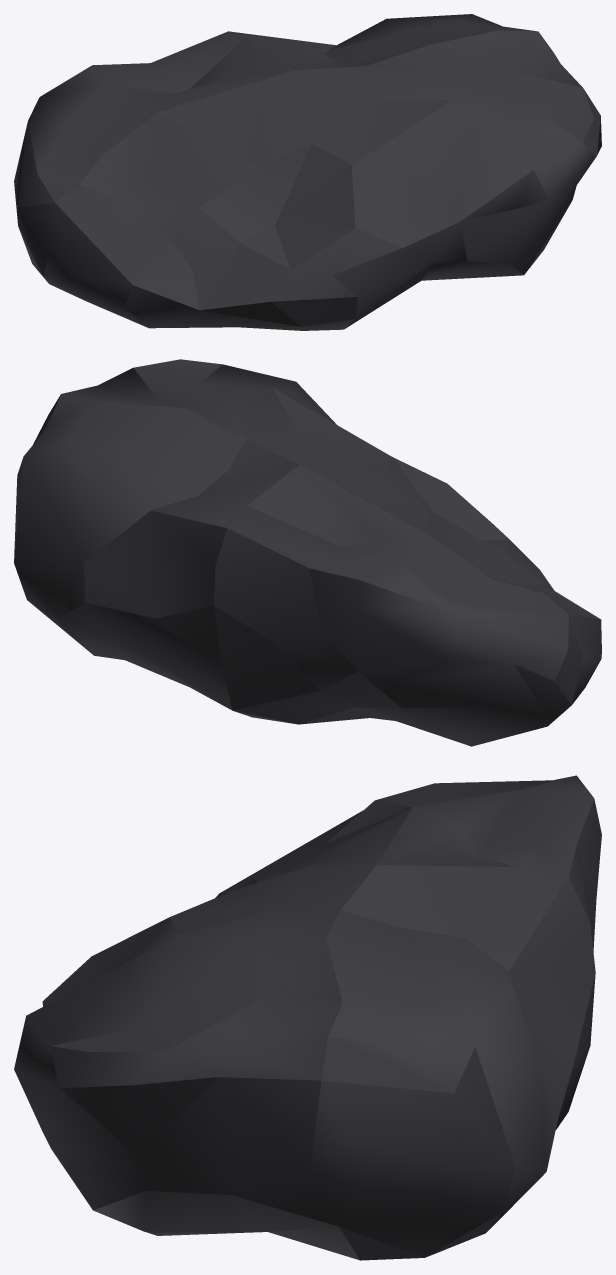
File: Rock.003.fbx
The picture shows the model from 3 angles, top to bottom: view 1: azimuth 30°, elevation 25°; view 2: azimuth 150°, elevation 25°; view 3: azimuth 270°, elevation 25°; orthographic projection. The views are drawn at different scales.
Parts seen in each view (by area): view 1: rock.003; view 2: rock.003; view 3: rock.003.
Part boxes in pixels (x1,y1,x2,y2): rock.003: (14, 14, 601, 330); rock.003: (14, 359, 601, 746); rock.003: (14, 775, 601, 1260).
Size of the model in its own units: 89.04 by 35.31 by 60.16.
